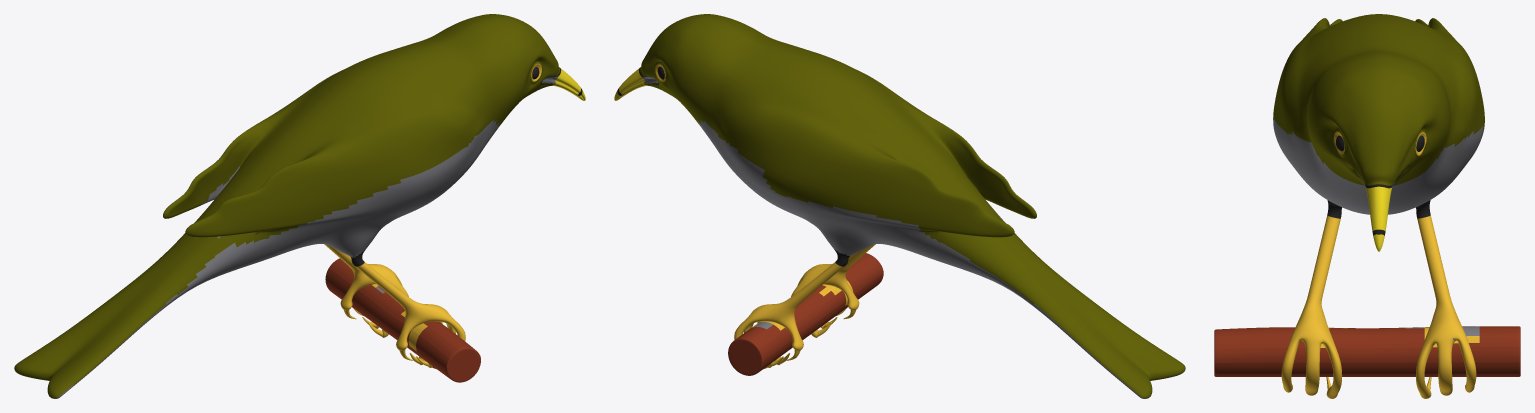
The model's file is cuckoo 1.gltf.
The picture shows the model from 3 angles, left to right: view 1: azimuth 30°, elevation 25°; view 2: azimuth 150°, elevation 25°; view 3: azimuth 270°, elevation 25°; orthographic projection. The views are drawn at different scales.
Parts seen in each view (by area): view 1: 12235_Bird_v1_l3; view 2: 12235_Bird_v1_l3; view 3: 12235_Bird_v1_l3.
Part boxes in pixels (box(x1,y1,x2,y2)): 12235_Bird_v1_l3: box(14, 14, 585, 398); 12235_Bird_v1_l3: box(614, 14, 1185, 398); 12235_Bird_v1_l3: box(1214, 14, 1520, 398).
Size of the model in its own units: 3.3 by 1.77 by 1.26.
